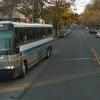Bus: (3, 16, 54, 80)
